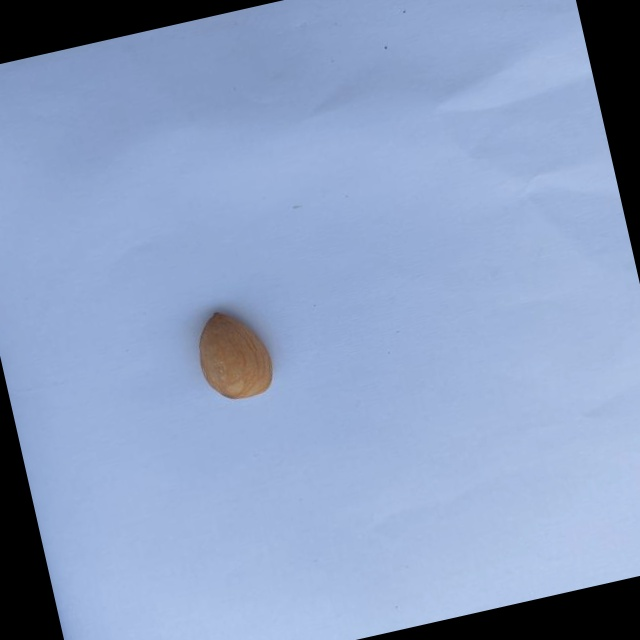grade2: (186, 299, 286, 410)
